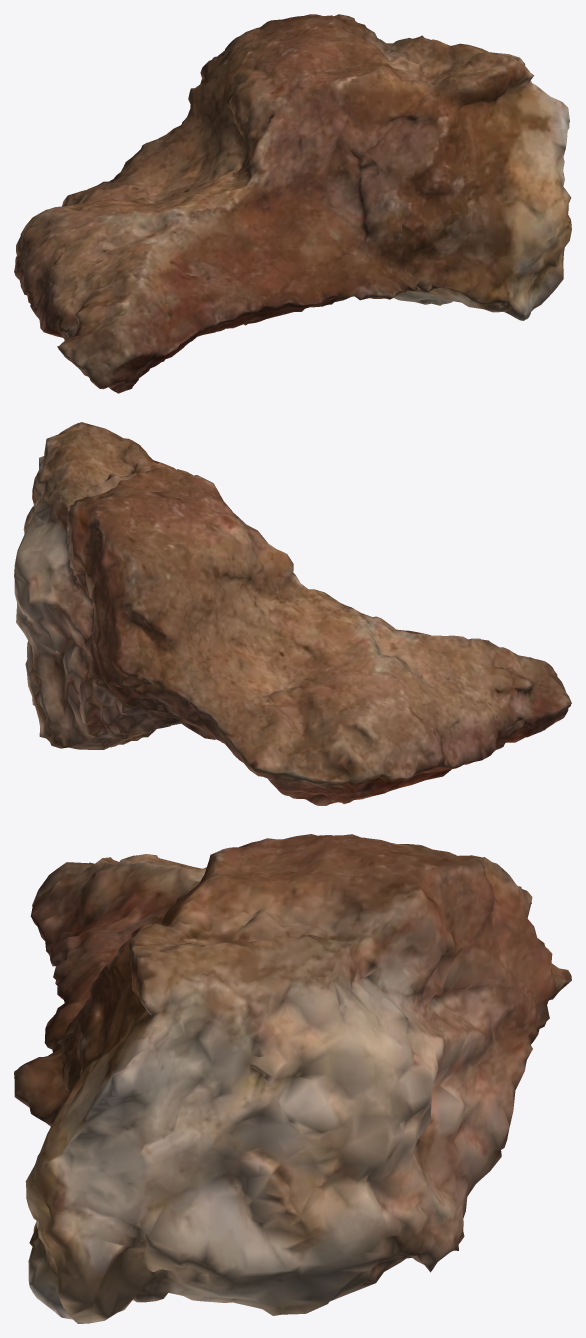
The model's file is stone_01.glb.
The picture shows the model from 3 angles, top to bottom: view 1: azimuth 30°, elevation 25°; view 2: azimuth 150°, elevation 25°; view 3: azimuth 270°, elevation 25°; orthographic projection. The views are drawn at different scales.
Parts seen in each view (by area): view 1: stone_01; view 2: stone_01; view 3: stone_01.
Part boxes in pixels (x1,y1,x2,y2): stone_01: (14,14,571,393); stone_01: (14,422,571,805); stone_01: (14,834,571,1323).
Size of the model in its own units: 0.1469 by 0.0718 by 0.089.
Materials: 1 (1 with a texture image).
